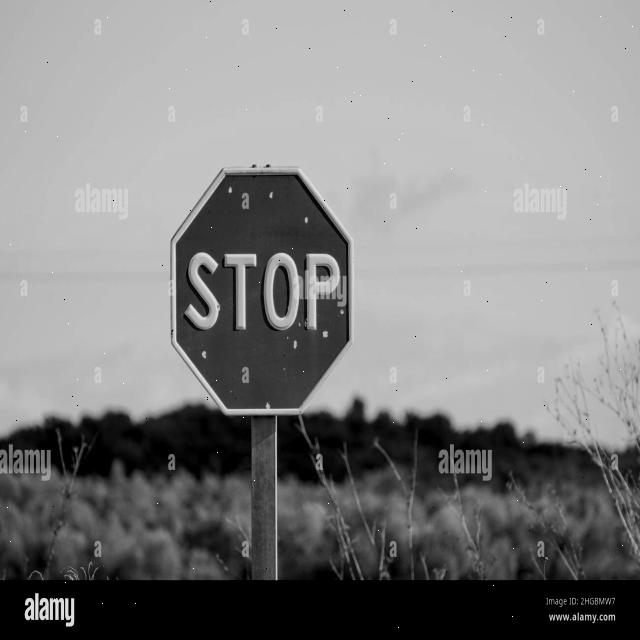Stop-sign: (158, 147, 370, 436)
